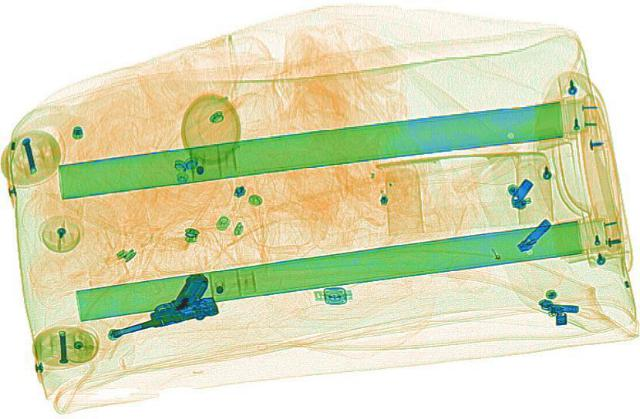Gun: (88, 269, 242, 354)
